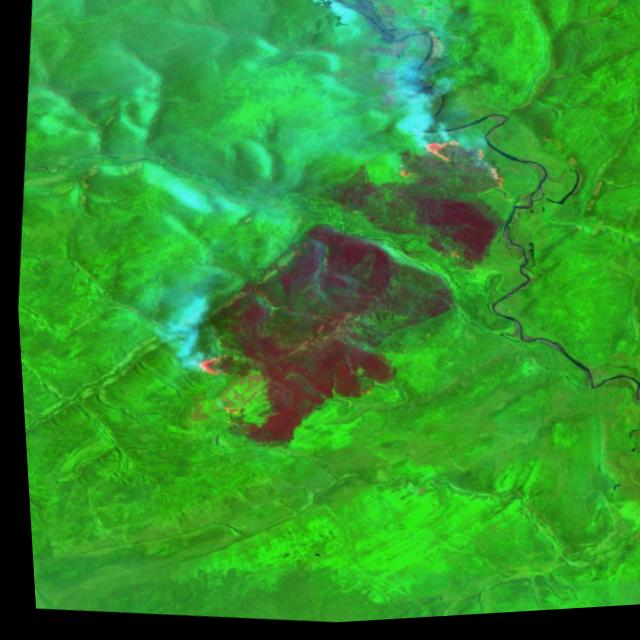fire: (415, 133, 513, 202), (182, 349, 231, 385)
